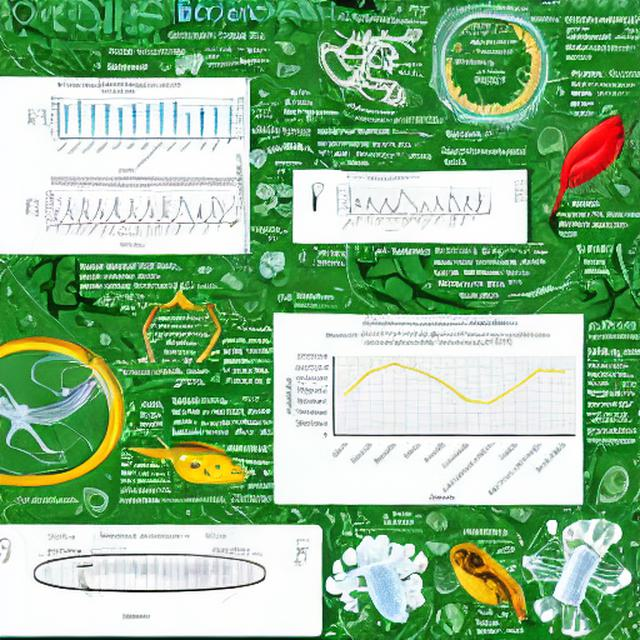Graph: (282, 326, 581, 503), (39, 81, 198, 173), (334, 174, 435, 235)
